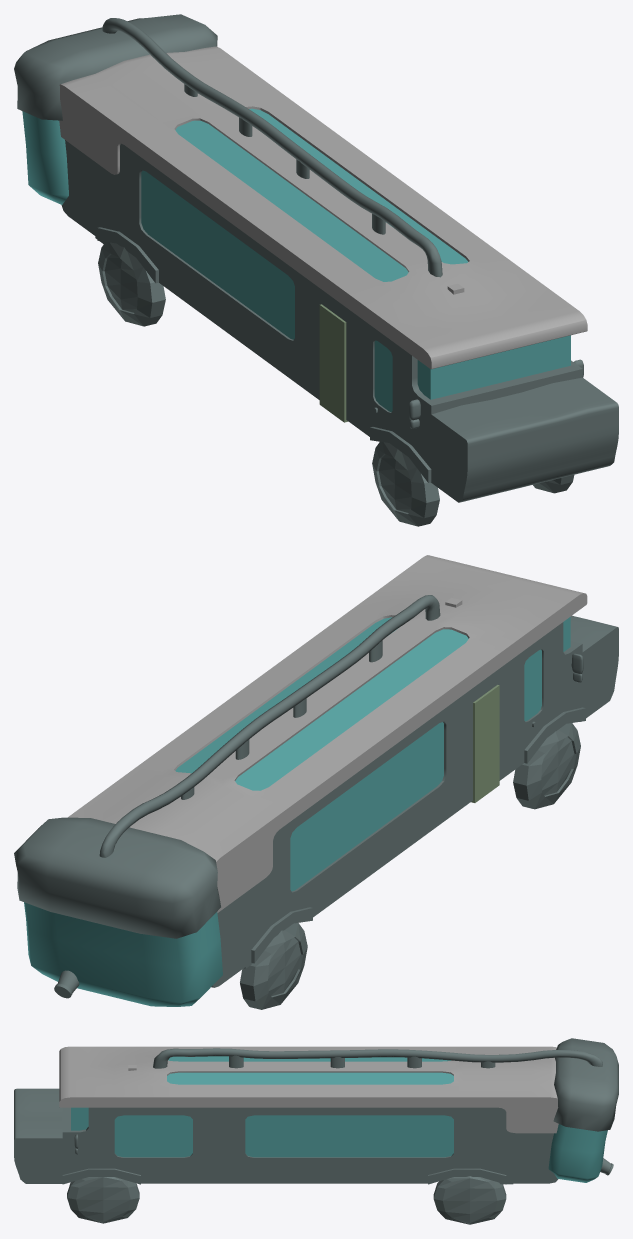
The model's file is bus_final.fbx.
The picture shows the model from 3 angles, top to bottom: view 1: azimuth 30°, elevation 25°; view 2: azimuth 150°, elevation 25°; view 3: azimuth 270°, elevation 25°; orthographic projection. The views are drawn at different scales.
Visible parts, largest first — view 1: pCube31, pCube2, pCube8, nurbsToPoly1, pCube3, pCube20, pCube7, extrudedSurface2; view 2: pCube31, pCube8, pCube7, nurbsToPoly1, pCube3, pCube20, pCube2, extrudedSurface2; view 3: pCube31, pCube8, pCube2, nurbsToPoly1, pCube22, pCube21, pCube7, extrudedSurface2.
Boxes of the visible parts, x1=… form: pCube31: x1=59, y1=46, x2=587, y2=482; pCube2: x1=429, y1=377, x2=618, y2=502; pCube8: x1=14, y1=14, x2=217, y2=120; nurbsToPoly1: x1=102, y1=18, x2=442, y2=277; pCube3: x1=98, y1=242, x2=165, y2=326; pCube20: x1=372, y1=441, x2=439, y2=526; pCube7: x1=22, y1=111, x2=68, y2=204; extrudedSurface2: x1=184, y1=84, x2=385, y2=234; pCube31: x1=68, y1=555, x2=587, y2=987; pCube8: x1=14, y1=817, x2=220, y2=938; pCube7: x1=24, y1=902, x2=222, y2=1006; nurbsToPoly1: x1=99, y1=595, x2=440, y2=857; pCube3: x1=240, y1=923, x2=307, y2=1009; pCube20: x1=513, y1=723, x2=580, y2=809; pCube2: x1=570, y1=615, x2=618, y2=721; extrudedSurface2: x1=181, y1=640, x2=382, y2=799; pCube31: x1=59, y1=1046, x2=558, y2=1184; pCube8: x1=553, y1=1038, x2=618, y2=1131; pCube2: x1=14, y1=1088, x2=64, y2=1183; nurbsToPoly1: x1=153, y1=1048, x2=602, y2=1068; pCube22: x1=433, y1=1176, x2=506, y2=1224; pCube21: x1=67, y1=1177, x2=139, y2=1223; pCube7: x1=548, y1=1124, x2=607, y2=1182; extrudedSurface2: x1=229, y1=1055, x2=495, y2=1068.
Bounding box in the file's own units: 16.89 × 20.39 × 73.6.
